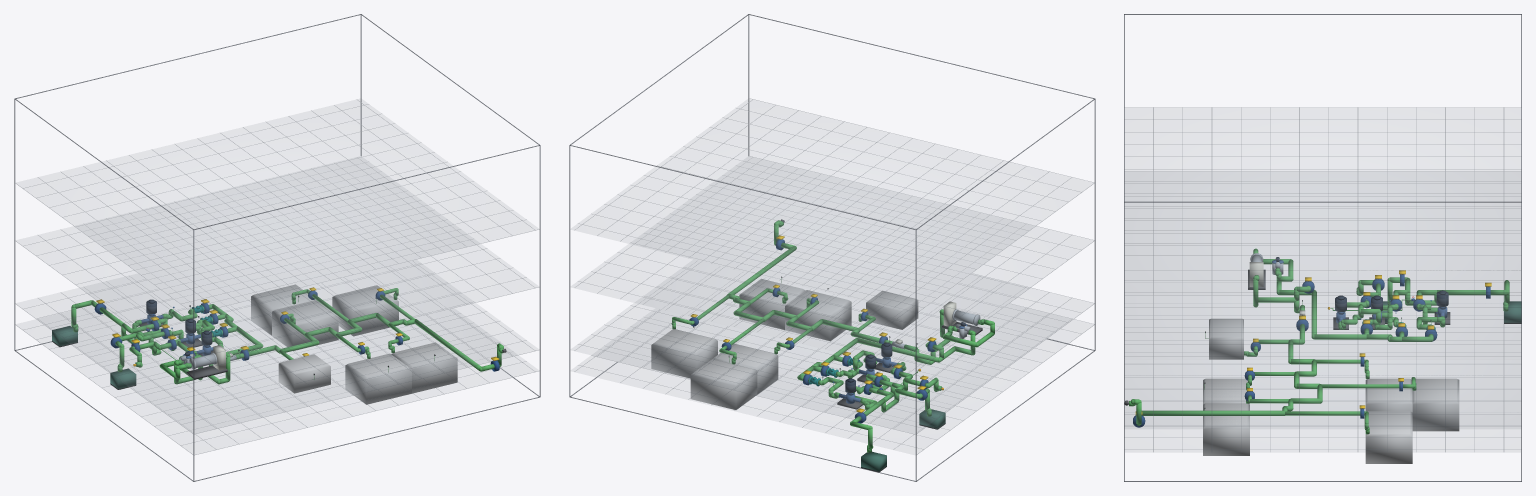
3 views of the same model, side by side, from view 1: azimuth 30°, elevation 25°; view 2: azimuth 150°, elevation 25°; view 3: azimuth 270°, elevation 25° (orthographic). The views are drawn at different scales.
Visible parts, largest first — view 1: deck_2nd_deck__plate, deck_floor__plate, deck_3rd_deck__plate, deck_tank_top__plate, engine_room_outline__outline, tank_o46__tank, tank_o45__tank, tank_o48__tank, tank_o49__tank, tank_o44__tank, deck_2nd_deck__grid, tank_o47__tank (+2 smaller); view 2: deck_2nd_deck__plate, deck_floor__plate, deck_3rd_deck__plate, deck_tank_top__plate, engine_room_outline__outline, tank_o47__tank, tank_o49__tank, tank_o46__tank, tank_o48__tank, tank_o44__tank, deck_2nd_deck__grid, tank_o45__tank (+3 smaller); view 3: deck_2nd_deck__plate, deck_floor__plate, deck_3rd_deck__plate, deck_tank_top__plate, tank_o47__tank, engine_room_outline__outline, tank_o49__tank, tank_o48__tank, tank_o44__tank, tank_o45__tank, tank_o46__tank, 450-BA-031_p71__pipe (+2 smaller).
Boxes of the visible parts, x1,y1,x2,y2 form: deck_2nd_deck__plate: (17, 99, 537, 312); deck_floor__plate: (16, 288, 538, 432); deck_3rd_deck__plate: (17, 227, 538, 369); deck_tank_top__plate: (16, 320, 538, 453); engine_room_outline__outline: (14, 14, 540, 481); tank_o46__tank: (345, 353, 411, 404); tank_o45__tank: (272, 300, 338, 350); tank_o48__tank: (391, 342, 457, 393); tank_o49__tank: (332, 285, 398, 336); tank_o44__tank: (278, 354, 330, 393); deck_2nd_deck__grid: (17, 101, 535, 311); tank_o47__tank: (251, 284, 315, 335); deck_2nd_deck__plate: (571, 99, 1092, 312); deck_floor__plate: (571, 288, 1092, 433); deck_3rd_deck__plate: (571, 227, 1092, 370); deck_tank_top__plate: (571, 320, 1092, 454); engine_room_outline__outline: (569, 14, 1095, 481); tank_o47__tank: (690, 359, 757, 409); tank_o49__tank: (651, 329, 717, 378); tank_o46__tank: (785, 290, 851, 341); tank_o48__tank: (739, 278, 805, 329); tank_o44__tank: (866, 290, 918, 329); deck_2nd_deck__grid: (575, 99, 1092, 311); tank_o45__tank: (713, 343, 778, 394); deck_2nd_deck__plate: (1125, 108, 1520, 294); deck_floor__plate: (1125, 360, 1520, 428); deck_3rd_deck__plate: (1125, 296, 1520, 358); deck_tank_top__plate: (1125, 430, 1520, 451); tank_o47__tank: (1412, 378, 1459, 431); engine_room_outline__outline: (1124, 14, 1521, 481); tank_o49__tank: (1365, 411, 1412, 463); tank_o48__tank: (1203, 403, 1249, 455); tank_o44__tank: (1209, 318, 1243, 359); tank_o45__tank: (1365, 378, 1412, 412); tank_o46__tank: (1203, 378, 1249, 404); 450-BA-031_p71__pipe: (1142, 410, 1284, 415).
Bounding box in the file's own units: 38.06 × 26.46 × 34.06.
